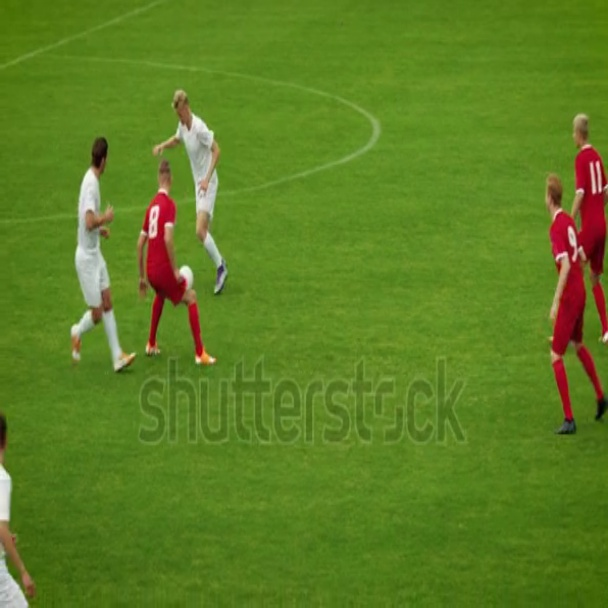ball: (179, 263, 197, 299)
